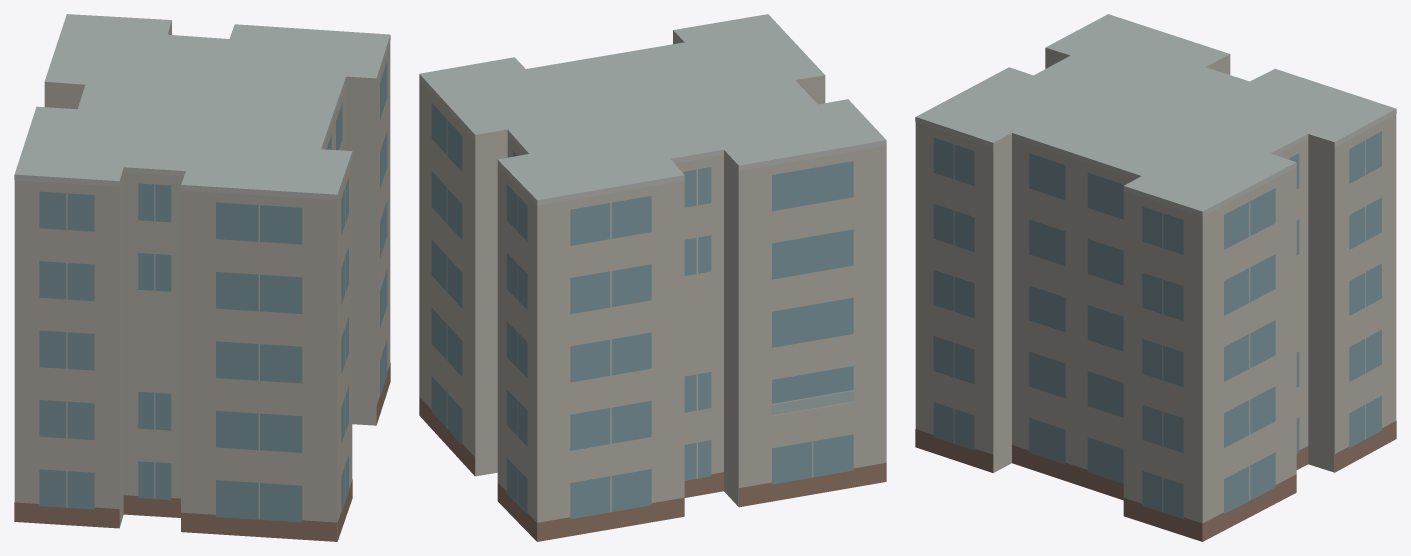
The model's file is survey-upis-32804620.glb.
3 renders of one model, left to right at view 1: azimuth 30°, elevation 25°; view 2: azimuth 150°, elevation 25°; view 3: azimuth 270°, elevation 25°, orthographic. The views are drawn at different scales.
Parts seen in each view (by area): view 1: survey-upis-32804620.tmp; view 2: survey-upis-32804620.tmp; view 3: survey-upis-32804620.tmp.
Part boxes in pixels (bbox=[...]): survey-upis-32804620.tmp: bbox=[14, 14, 390, 541]; survey-upis-32804620.tmp: bbox=[419, 14, 886, 541]; survey-upis-32804620.tmp: bbox=[915, 14, 1396, 541].
Size of the model in its own units: 19.57 by 15.25 by 20.13.
